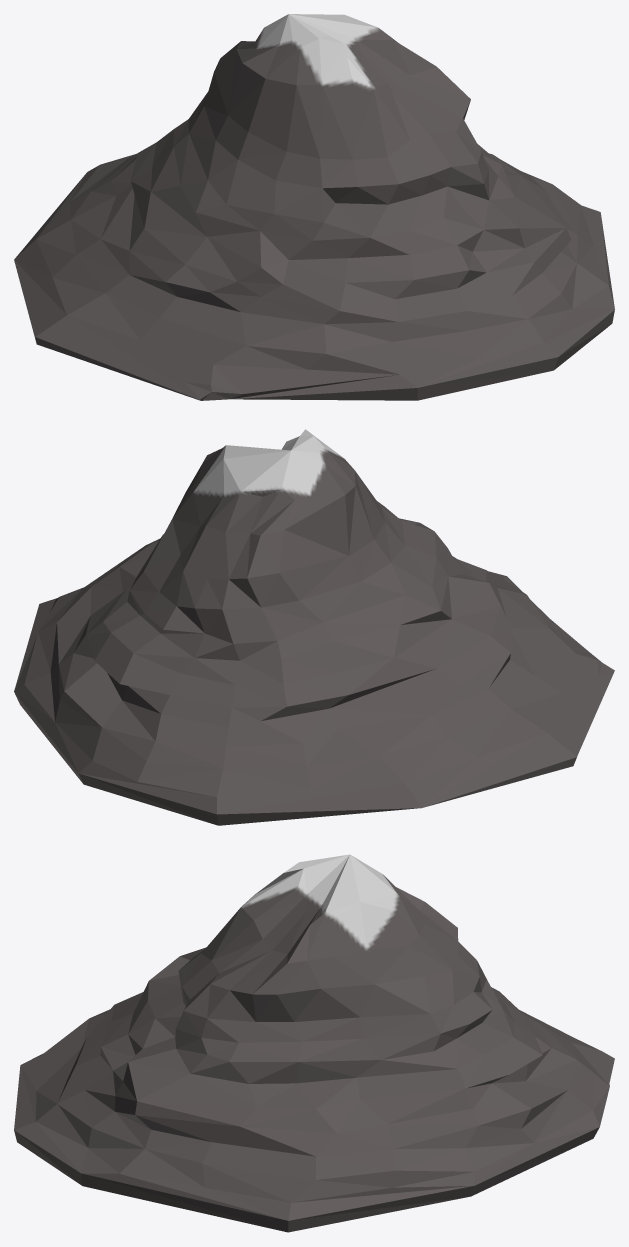
The model's file is Mountain Path 1.fbx.
The picture shows the model from 3 angles, top to bottom: view 1: azimuth 30°, elevation 25°; view 2: azimuth 150°, elevation 25°; view 3: azimuth 270°, elevation 25°; orthographic projection. The views are drawn at different scales.
Parts seen in each view (by area): view 1: Mountain_Path_1; view 2: Mountain_Path_1; view 3: Mountain_Path_1.
Part boxes in pixels (<box>): Mountain_Path_1: <box>14,14,614,400</box>; Mountain_Path_1: <box>14,429,614,825</box>; Mountain_Path_1: <box>14,854,614,1232</box>.
Bounding box in the file's own units: 129 × 57.74 × 127.
1 material, 1 textured.
